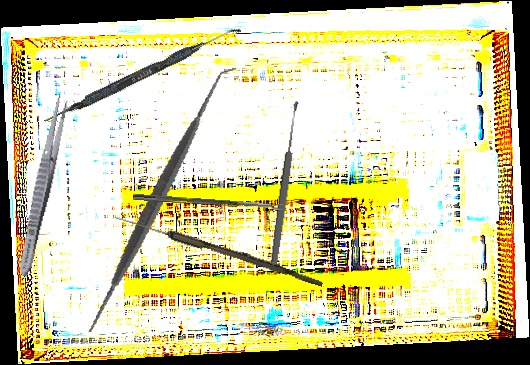Dressing Forceps: (14, 92, 72, 278)
Spatula Surgical: (26, 67, 287, 336), (42, 19, 242, 130)
Surgical Spoon: (113, 213, 325, 287), (268, 100, 302, 272), (132, 193, 284, 212)
